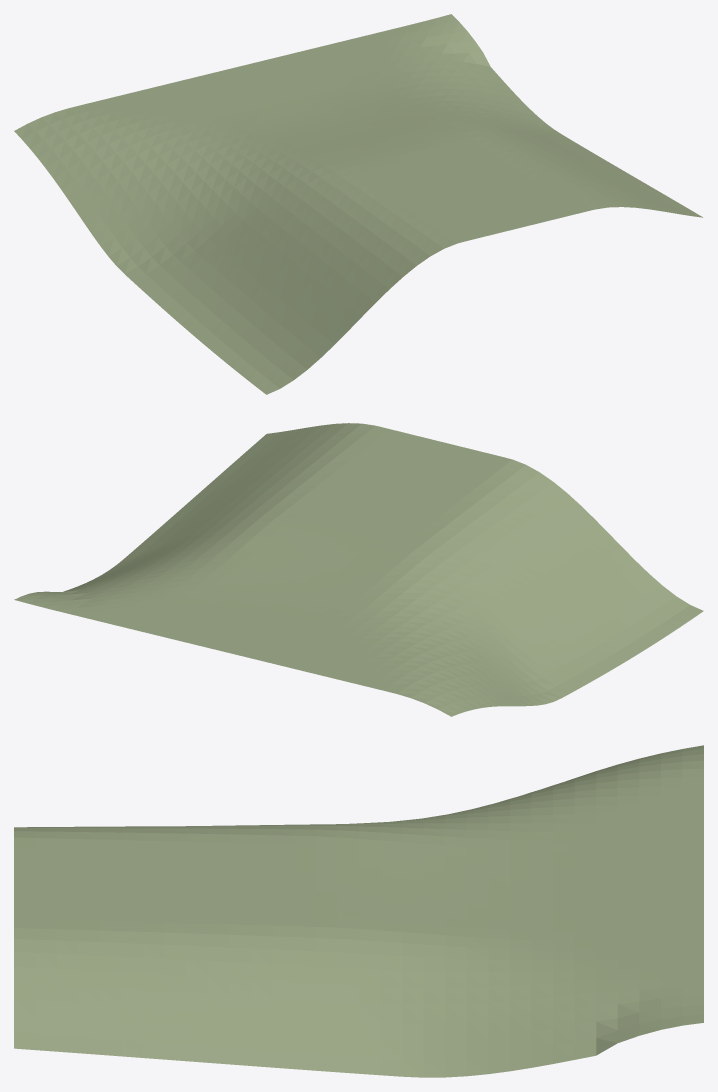
The model's file is alpine-2-3.glb.
The picture shows the model from 3 angles, top to bottom: view 1: azimuth 30°, elevation 25°; view 2: azimuth 150°, elevation 25°; view 3: azimuth 270°, elevation 25°; orthographic projection. The views are drawn at different scales.
Visible parts, largest first — view 1: alpine-2-3; view 2: alpine-2-3; view 3: alpine-2-3.
Part boxes in pixels (x1,y1,x2,y2): alpine-2-3: (14, 14, 702, 394); alpine-2-3: (14, 423, 703, 716); alpine-2-3: (14, 745, 703, 1077).
Bounding box in the file's own units: 256 × 58.86 × 256.
